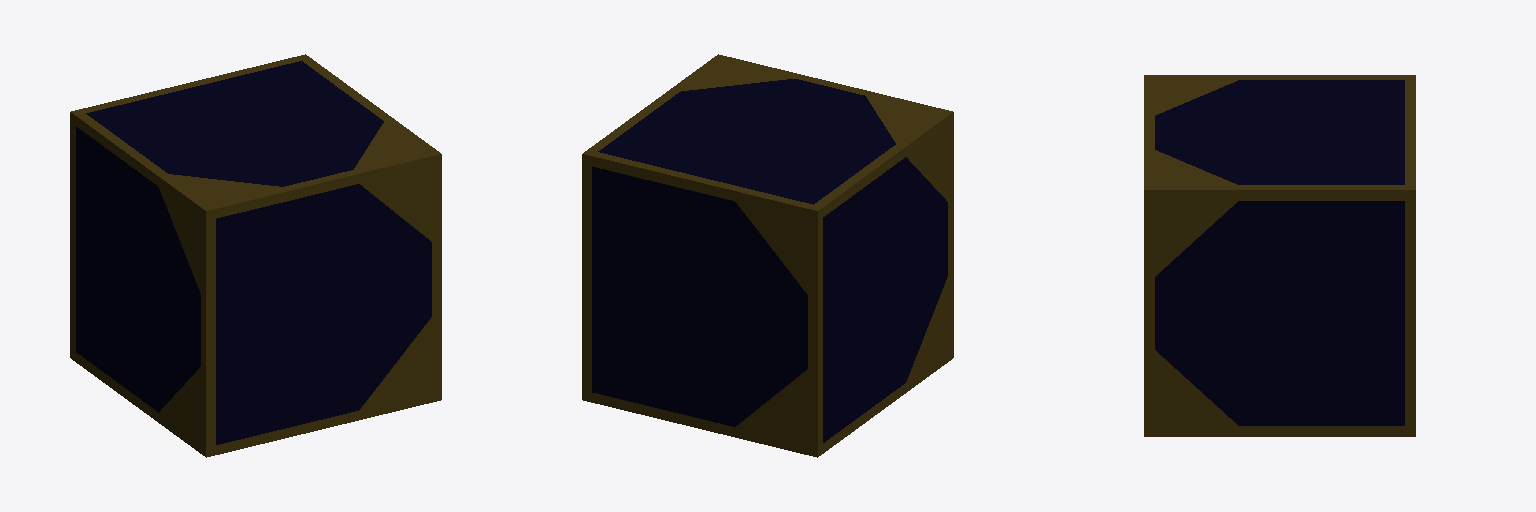
The model's file is Cubesat_1U.obj.
3 renders of one model, left to right at view 1: azimuth 30°, elevation 25°; view 2: azimuth 150°, elevation 25°; view 3: azimuth 270°, elevation 25°, orthographic.
Visible parts, largest first — view 1: Cube1; view 2: Cube1; view 3: Cube1.
Part boxes in pixels (bbox=[...]): Cube1: bbox=[70, 54, 441, 457]; Cube1: bbox=[582, 54, 953, 457]; Cube1: bbox=[1144, 75, 1415, 436].
Size of the model in its own units: 0.1 by 0.1 by 0.1.